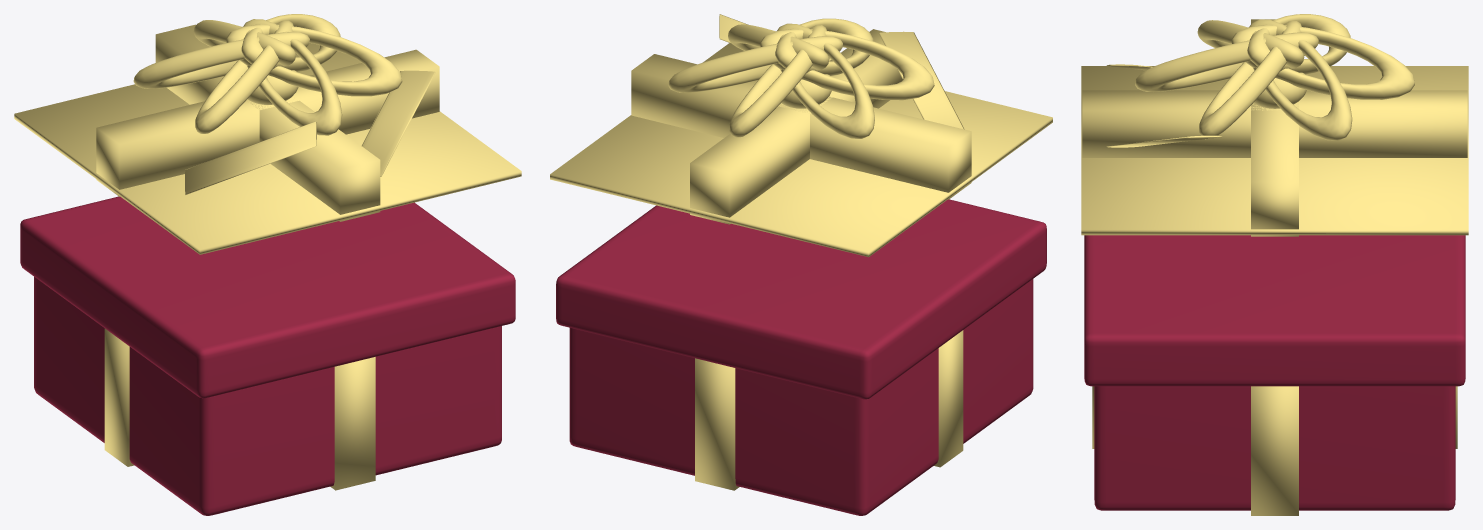
Rendered from luxury_gift_box.glb.
The picture shows the model from 3 angles, left to right: view 1: azimuth 30°, elevation 25°; view 2: azimuth 150°, elevation 25°; view 3: azimuth 270°, elevation 25°; orthographic projection. The views are drawn at different scales.
Visible parts, largest first — view 1: Lid_Gold_Accents, Box_Lid, Box_Base, Base_Gold_Accents; view 2: Lid_Gold_Accents, Box_Lid, Box_Base, Base_Gold_Accents; view 3: Lid_Gold_Accents, Box_Lid, Box_Base, Base_Gold_Accents.
Boxes of the visible parts, x1=… form: Lid_Gold_Accents: x1=14, y1=14, x2=521, y2=254; Box_Lid: x1=20, y1=196, x2=515, y2=398; Box_Base: x1=34, y1=277, x2=501, y2=515; Base_Gold_Accents: x1=104, y1=328, x2=375, y2=490; Lid_Gold_Accents: x1=550, y1=14, x2=1052, y2=257; Box_Lid: x1=556, y1=199, x2=1046, y2=399; Box_Base: x1=569, y1=279, x2=1033, y2=515; Base_Gold_Accents: x1=695, y1=330, x2=963, y2=490; Lid_Gold_Accents: x1=1081, y1=14, x2=1468, y2=236; Box_Lid: x1=1084, y1=235, x2=1465, y2=386; Box_Base: x1=1094, y1=386, x2=1455, y2=510; Base_Gold_Accents: x1=1092, y1=386, x2=1457, y2=515.
Size of the model in its own units: 1.93 by 2.25 by 1.93.
